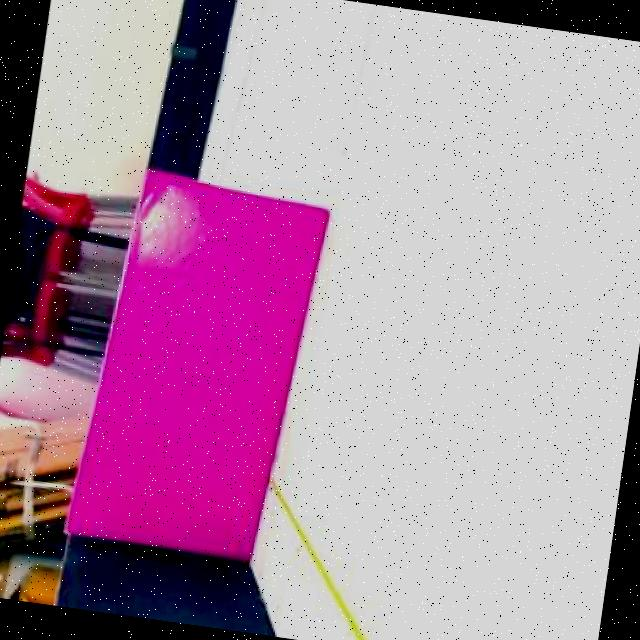xparking: (90, 176, 305, 558)
